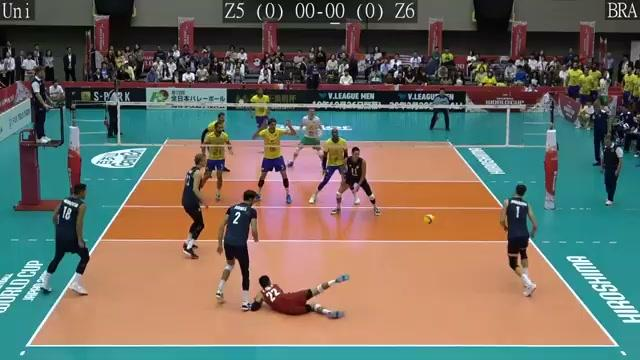ball: (425, 213, 433, 225)
